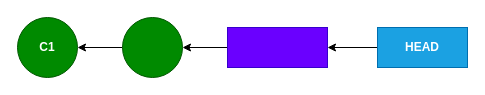
This 485x95 diagram has some shape labels left out. Each missing label, with the box of its shape:
C2: (122, 16, 182, 78)
master: (226, 26, 328, 68)
